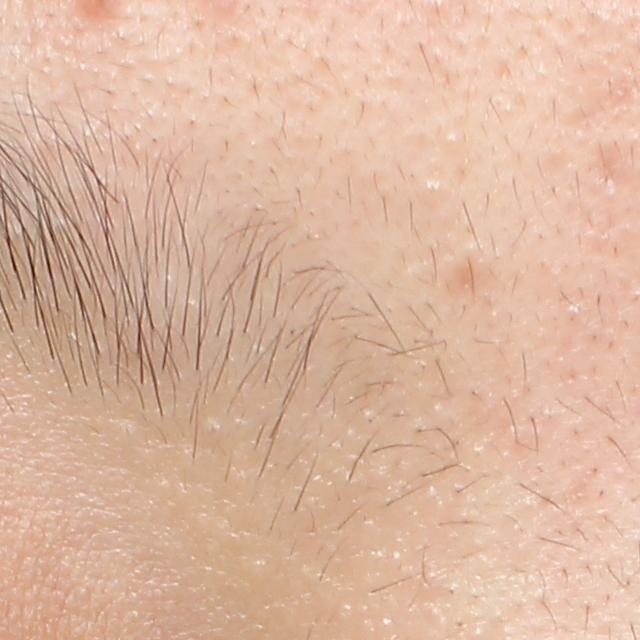comedo: (436, 127, 467, 157), (198, 415, 226, 441), (420, 174, 449, 198)
